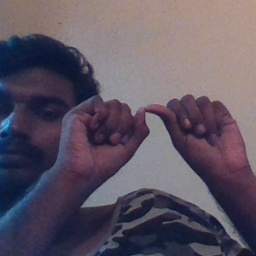A: (88, 83, 221, 182)
